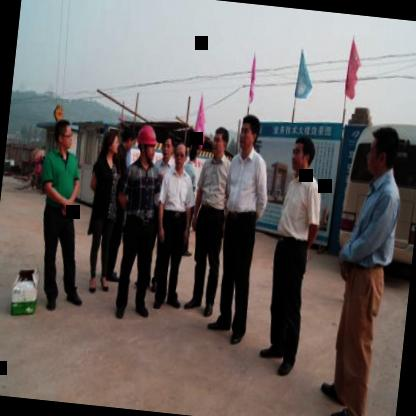head: (364, 120, 402, 182), (288, 131, 316, 176), (236, 110, 263, 155), (50, 114, 78, 154), (208, 123, 231, 162), (100, 125, 121, 166), (117, 122, 137, 154), (158, 130, 176, 163), (172, 136, 188, 170), (184, 143, 199, 164)
helmet: (134, 124, 160, 165)
